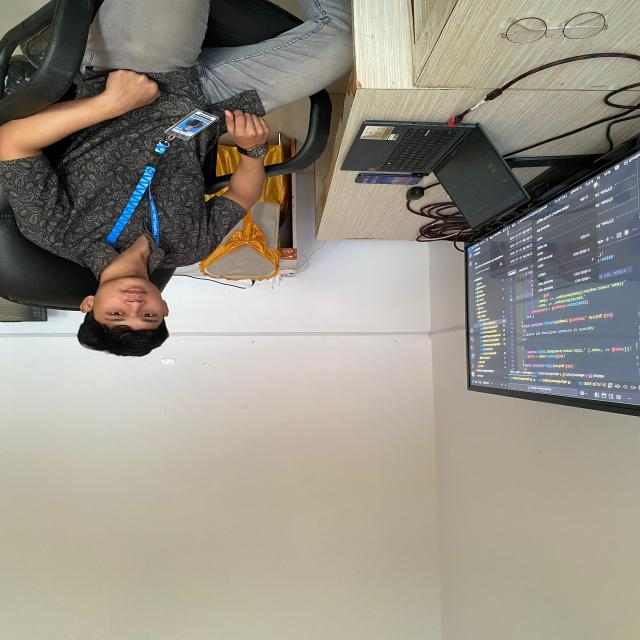nohelmet: (69, 270, 182, 361)
